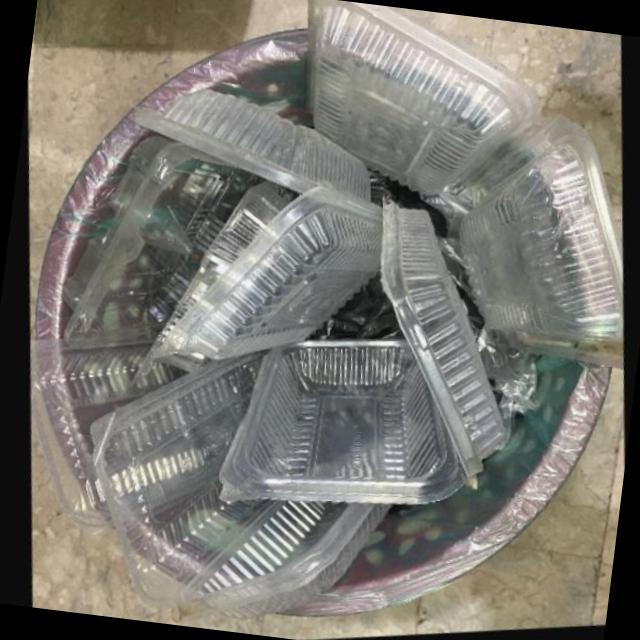hop_nhua: (306, 0, 622, 375), (217, 202, 506, 509), (89, 353, 392, 625), (133, 92, 381, 362), (61, 135, 297, 349)
